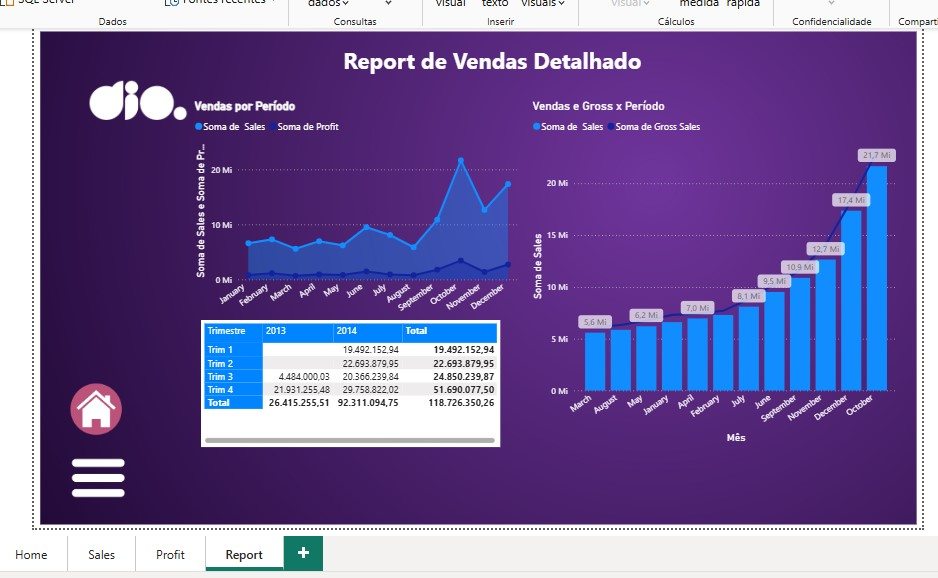

This screenshot's page, from the dashboard's own definition file:
{"tool":"powerbi","page":{"name":"Report","canvas":[1280,720],"ordinal":3},"visuals":[{"type":"image","box":[0,0,1279.9,720],"z":0},{"type":"image","box":[47.7,507.3,84.3,84.3],"z":1000},{"type":"image","box":[48.9,603.9,89.2,89.2],"z":2000},{"type":"textbox","box":[440.6,18.7,460.8,53.3],"z":3000},{"type":"areaChart","title":"Vendas por Período","fields":{"Category":["financials.Month Name"],"Y":["Sum(financials. Sales)","Sum(financials.Profit)"]},"box":[226.1,102.2,475.2,341.3],"z":4000},{"type":"pivotTable","fields":{"Columns":["financials.Date.Variation.Hierarquia de datas.Ano"],"Rows":["financials.Date.Variation.Hierarquia de datas.Trimestre"],"Values":["Sum(financials. Sales)"]},"box":[240.5,420.5,430.6,182.9],"z":5000},{"type":"lineStackedColumnComboChart","title":"Vendas e Gross x Período","fields":{"Category":["financials.Month Name"],"Y":["Sum(financials. Sales)"],"Y2":["Sum(financials.Gross Sales)"]},"box":[712.8,102.2,535.7,501.1],"z":6000}]}

Visuals, with their boxes on the page's 1280x720 design canvas (x1, y1, x2, y2). These are canvas units, not pixel positions in the 938x578 screenshot, which may show the page scaled, cropped or inside an application window:
image: 0,0,1280,720
image: 48,507,132,592
image: 49,604,138,693
textbox: 441,19,901,72
"Vendas por Período" areaChart: 226,102,701,444
pivotTable - financials.Date.Variation.Hierarquia de datas.Ano x financials.Date.Variation.Hierarquia de datas.Trimestre: 240,420,671,603
"Vendas e Gross x Período" lineStackedColumnComboChart: 713,102,1248,603
